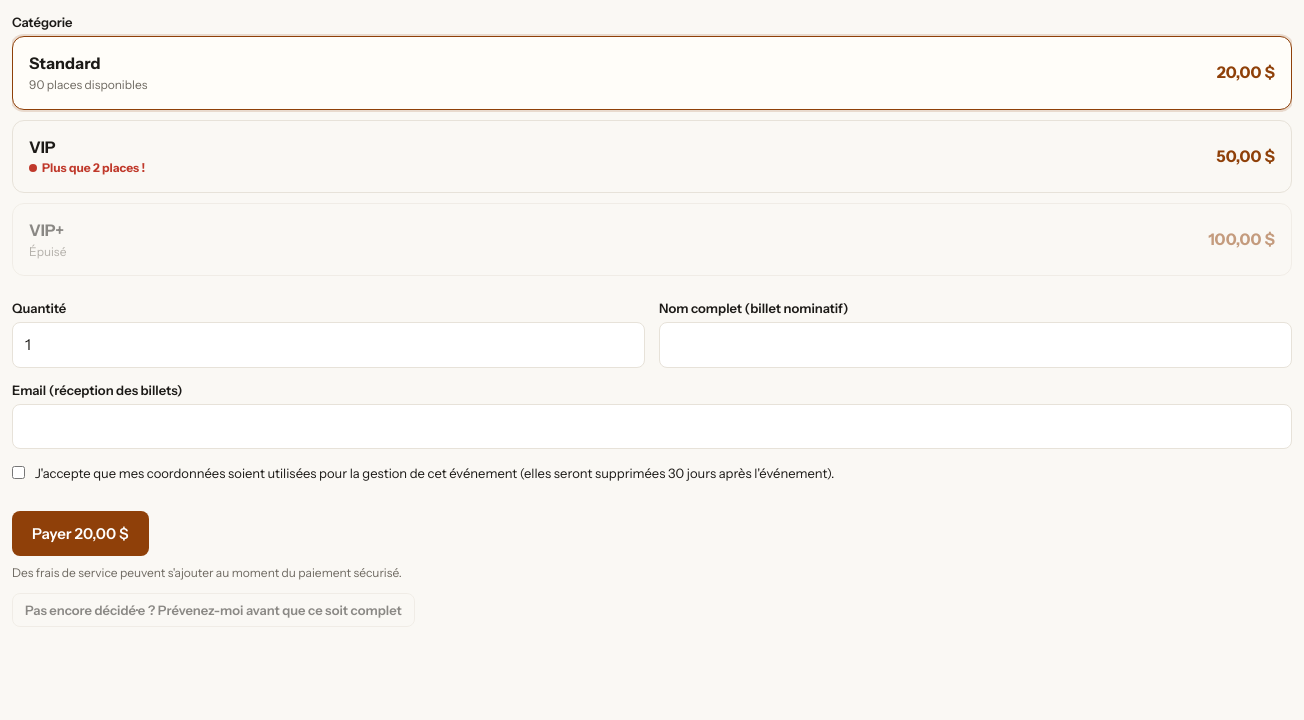
CheckoutForm › émet les billets directement quand le mode n'est pas stripe
The image size is (1304, 720).
Type "Grace Hopper" into the field labelled "Nom complet (billet nominatif)" at (976,345), box [659,322,1292,368]
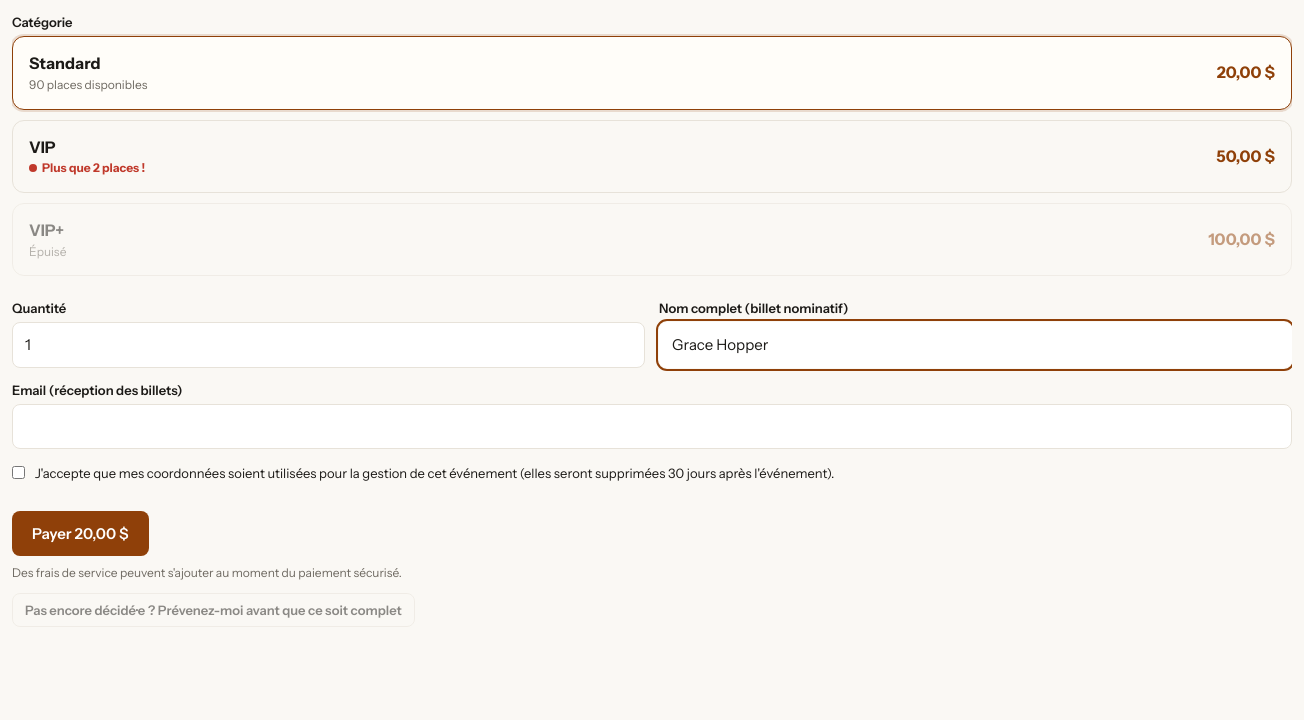
Type "grace@example.com" into the field labelled "Email (réception des billets)" at (652,426), box [12,404,1292,449]
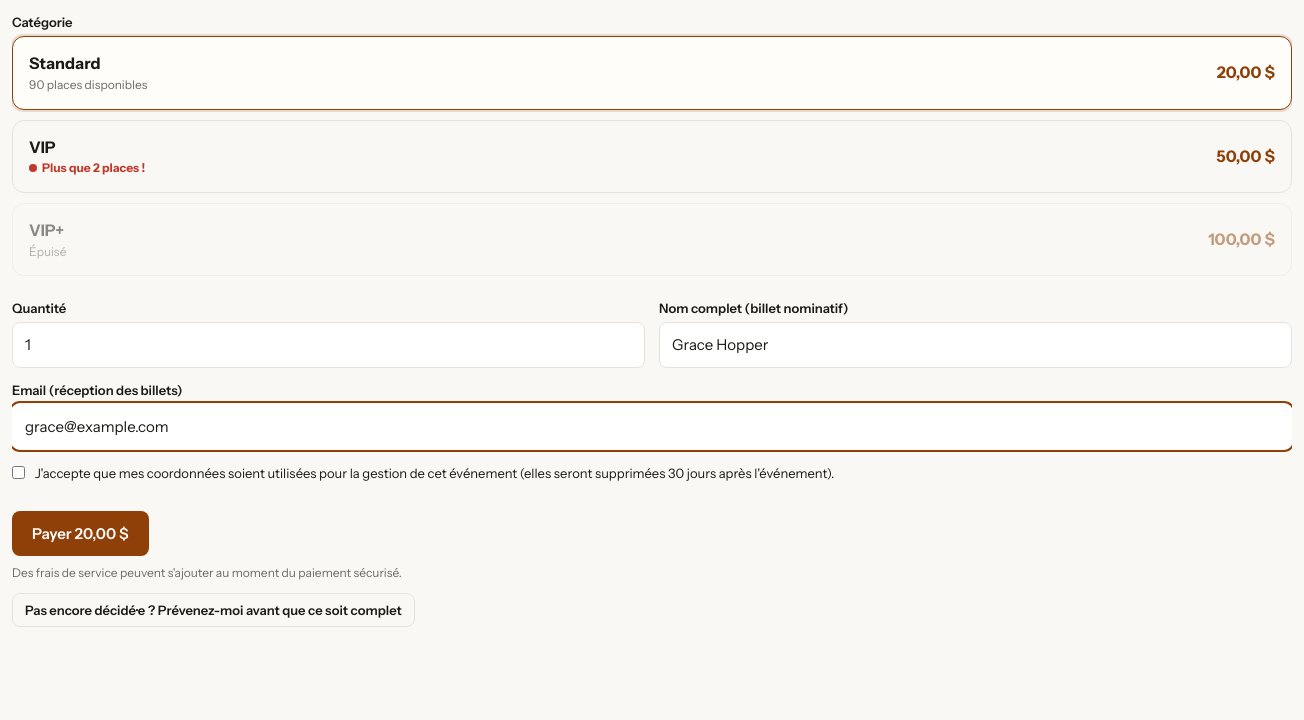
Click the checkbox labelled "coordonnées soient utilisées" at (18,473), box [12,466,25,479]
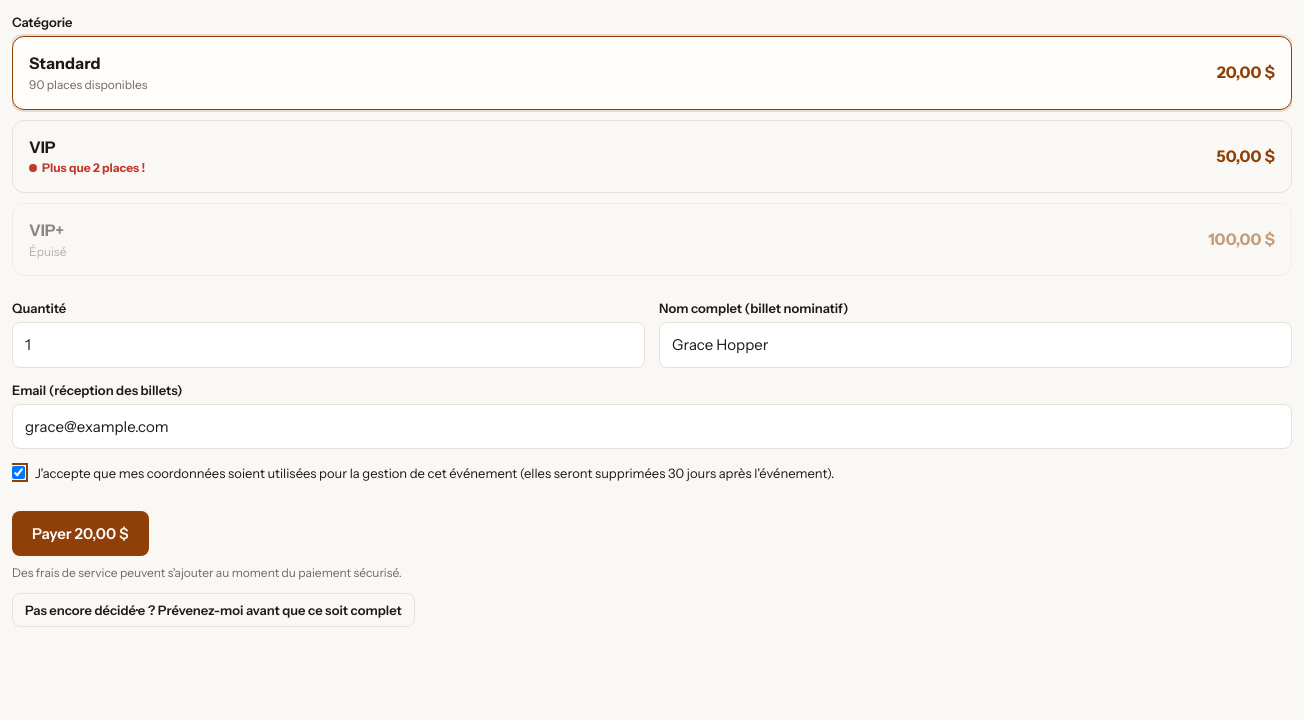
Click the button "Payer 20,00 $" at (80,534), box [12,511,149,556]
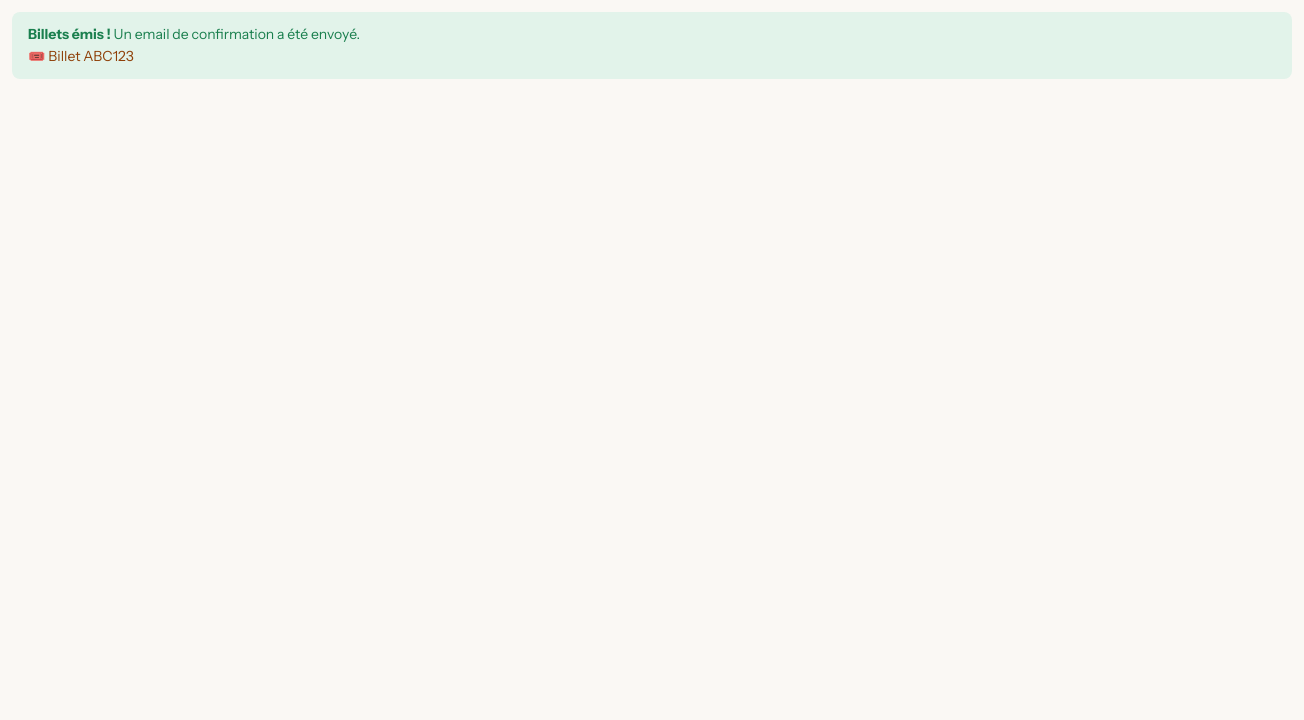
Expected: the text "Billets émis !" is shown, [28,25,111,43]
Expected: the link "🎟️ Billet ABC123" is shown, [28,47,134,65]
